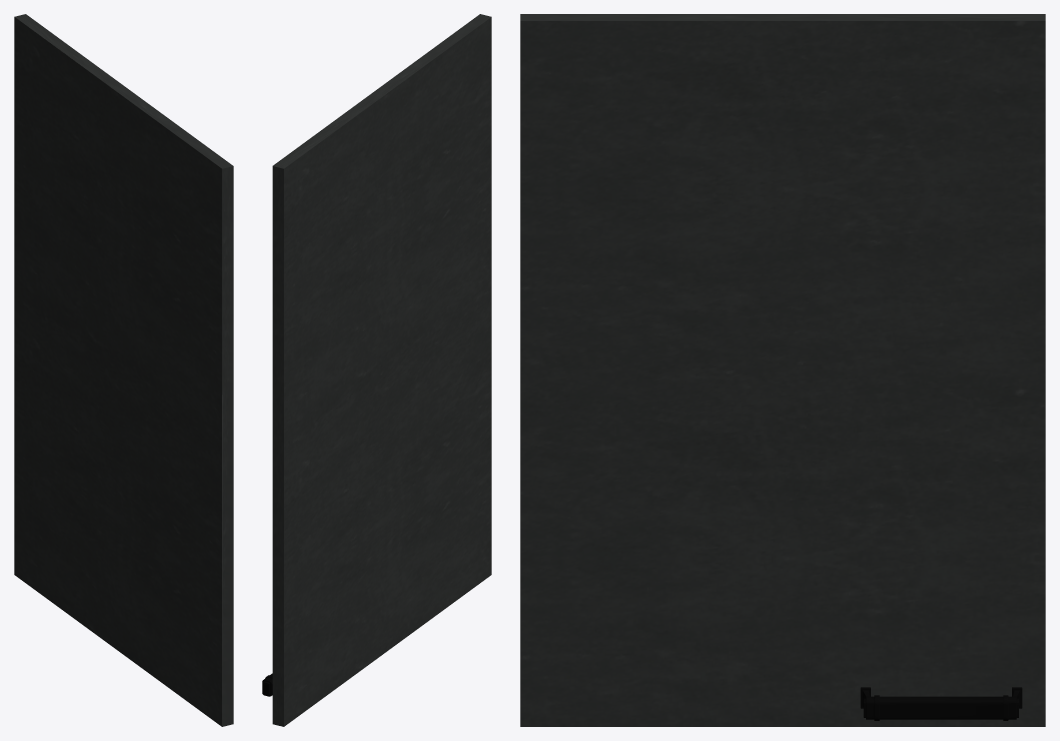
Rendered from leftdoor.glb.
3 views of the same model, side by side, from view 1: azimuth 30°, elevation 25°; view 2: azimuth 150°, elevation 25°; view 3: azimuth 270°, elevation 25° (orthographic). The views are drawn at different scales.
Parts seen in each view (by area): view 1: visuals.001; view 2: visuals.001; view 3: visuals.001.
Boxes of the visible parts, x1,y1,x2,y2 form: visuals.001: (14,14,233,726); visuals.001: (262,14,491,726); visuals.001: (520,14,1045,726).
Bounding box in the file's own units: 0.0558 × 0.8834 × 0.5957.
1 material, 1 textured.
